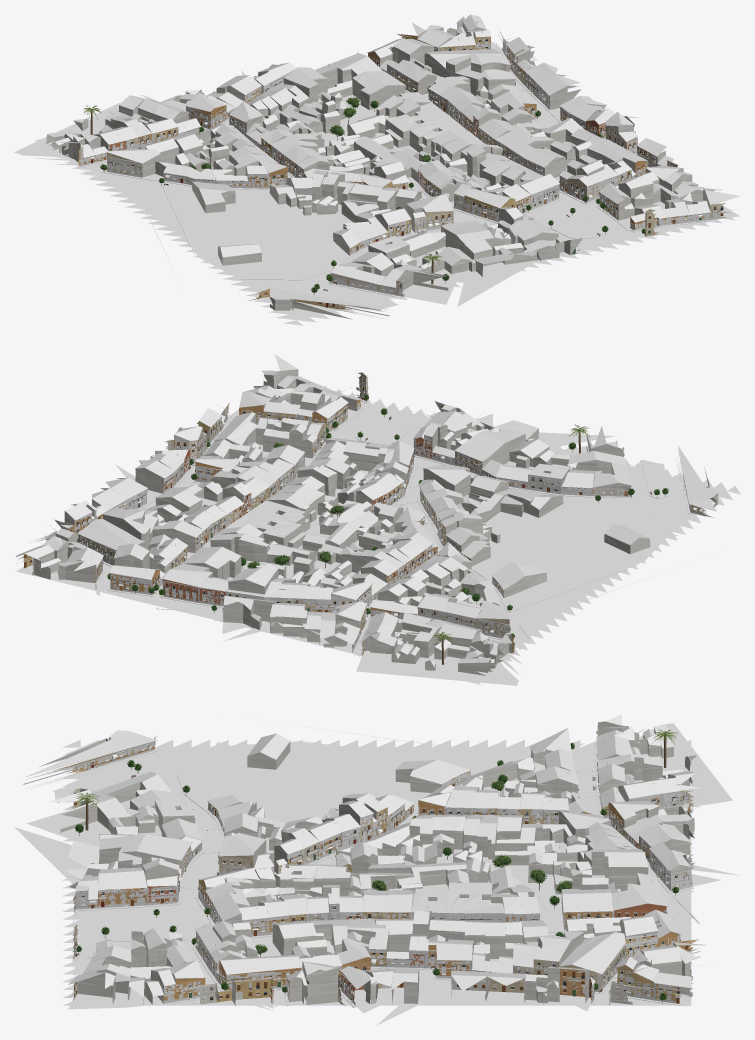
The model's file is zona_-2_-2.glb.
3 views of the same model, one above another, from view 1: azimuth 30°, elevation 25°; view 2: azimuth 150°, elevation 25°; view 3: azimuth 270°, elevation 25° (orthographic). The views are drawn at different scales.
Visible parts, largest first — view 1: z_tejados_-2_-2, z_casas_-2_-2, z_calle_-2_-2, z_fachadas_-2_-2, z_casas_planas_-2_-2, z_suelo_-2_-2, z_arboles_-2_-2, z_detalles_pueblo_-2_-2; view 2: z_tejados_-2_-2, z_casas_-2_-2, z_calle_-2_-2, z_fachadas_-2_-2, z_suelo_-2_-2, z_casas_planas_-2_-2, z_arboles_-2_-2, z_detalles_pueblo_-2_-2; view 3: z_tejados_-2_-2, z_casas_-2_-2, z_calle_-2_-2, z_fachadas_-2_-2, z_suelo_-2_-2, z_casas_planas_-2_-2, z_arboles_-2_-2, z_detalles_pueblo_-2_-2, z_objetos_-2_-2.
Boxes of the visible parts, bbox=[...] form: z_tejados_-2_-2: bbox=[47, 14, 739, 309]; z_casas_-2_-2: bbox=[46, 18, 726, 319]; z_calle_-2_-2: bbox=[14, 41, 739, 325]; z_fachadas_-2_-2: bbox=[77, 27, 730, 316]; z_casas_planas_-2_-2: bbox=[130, 65, 582, 266]; z_suelo_-2_-2: bbox=[79, 43, 707, 310]; z_arboles_-2_-2: bbox=[84, 86, 645, 294]; z_detalles_pueblo_-2_-2: bbox=[90, 51, 717, 299]; z_tejados_-2_-2: bbox=[16, 354, 717, 667]; z_casas_-2_-2: bbox=[18, 369, 718, 675]; z_calle_-2_-2: bbox=[16, 385, 740, 685]; z_fachadas_-2_-2: bbox=[16, 377, 713, 653]; z_suelo_-2_-2: bbox=[99, 395, 683, 655]; z_casas_planas_-2_-2: bbox=[225, 401, 570, 646]; z_arboles_-2_-2: bbox=[77, 394, 668, 664]; z_detalles_pueblo_-2_-2: bbox=[24, 393, 705, 652]; z_tejados_-2_-2: bbox=[24, 714, 705, 996]; z_casas_-2_-2: bbox=[39, 721, 700, 1005]; z_calle_-2_-2: bbox=[14, 720, 739, 1025]; z_fachadas_-2_-2: bbox=[23, 731, 700, 1006]; z_suelo_-2_-2: bbox=[72, 742, 694, 1005]; z_casas_planas_-2_-2: bbox=[70, 777, 664, 1004]; z_arboles_-2_-2: bbox=[75, 729, 678, 1002]; z_detalles_pueblo_-2_-2: bbox=[72, 760, 692, 1005]; z_objetos_-2_-2: bbox=[73, 743, 691, 1002].
Size of the model in its own units: 239 by 12.69 by 236.
